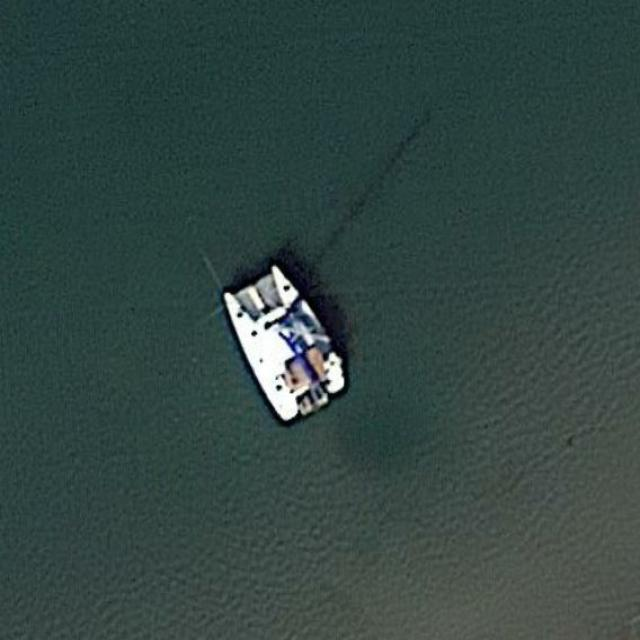ship: (218, 262, 352, 424)
